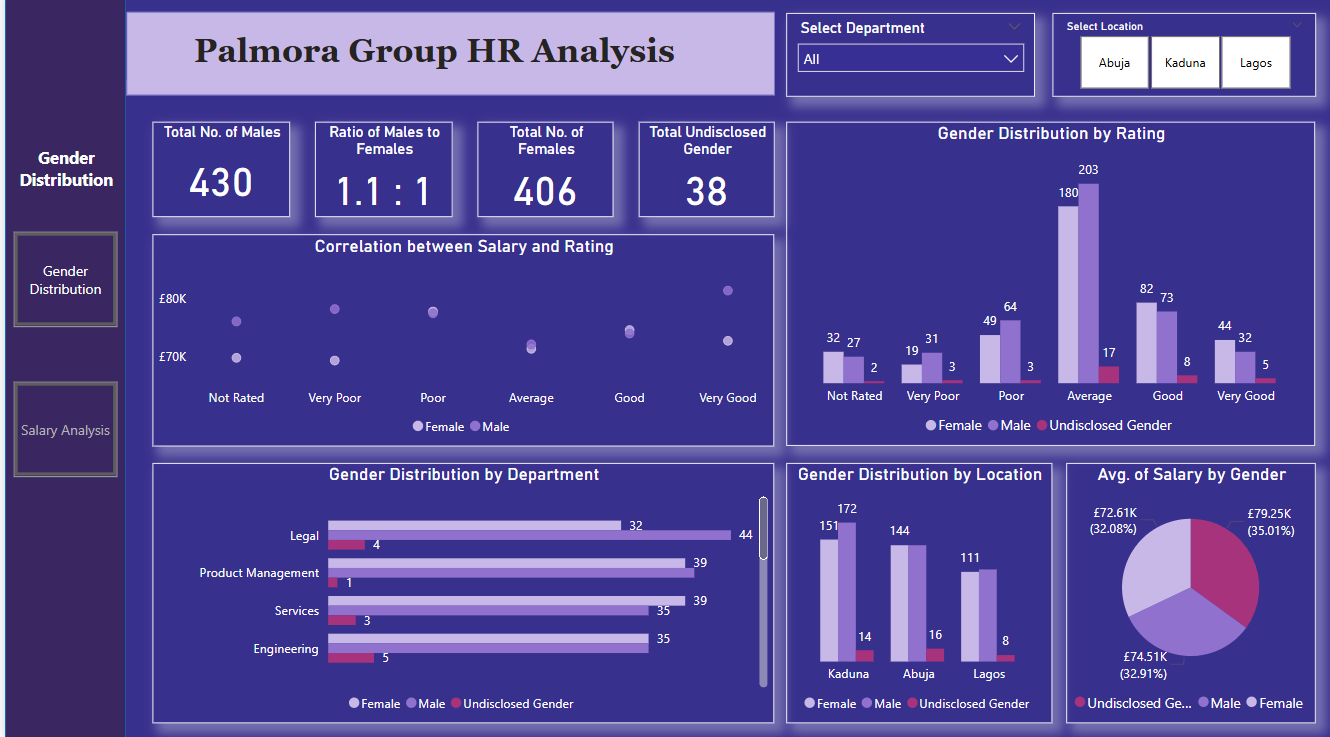

The dashboard page shown, as its layout file describes it:
{"tool":"powerbi","page":{"name":"Gender Distribution","canvas":[1280,720],"ordinal":0},"visuals":[{"type":"pieChart","title":"Avg. of Salary by Gender","fields":{"Category":["Palmoria Group emp-data.Gender"],"Y":["Palmoria Group emp-data.Salary"]},"box":[1041.2,453.6,224.4,250.9],"z":0},{"type":"slicer","fields":{"Values":["Palmoria Group emp-data.Location"]},"box":[1011.3,19.6,254.3,80.7],"z":1000},{"type":"slicer","fields":{"Values":["Departments.Department"]},"box":[754,19.3,240.1,80.8],"z":2000},{"type":"card","title":"Total No. of Males","fields":{"Values":["Palmoria Group emp-data.Total Male"]},"box":[142.8,124.1,132.7,92.3],"z":3000},{"type":"card","title":"Total No. of Females","fields":{"Values":["Palmoria Group emp-data.Total Female"]},"box":[456.3,124.1,131.3,92.3],"z":4000},{"type":"clusteredColumnChart","title":"Gender Distribution by Location","fields":{"Y":["Palmoria Group emp-data.Name"],"Category":["Palmoria Group emp-data.Location"],"Series":["Palmoria Group emp-data.Gender"]},"box":[754,453.6,270.2,250.9],"z":5000},{"type":"clusteredBarChart","title":"Gender Distribution by Department","fields":{"Category":["Departments.Department"],"Y":["Palmoria Group emp-data.Name"],"Series":["Palmoria Group emp-data.Gender"]},"box":[142.8,453,600.2,251],"z":6000},{"type":"clusteredColumnChart","title":"Gender Distribution by Rating","fields":{"Category":["Palmoria Group emp-data.Rating"],"Y":["Palmoria Group emp-data.Name"],"Series":["Palmoria Group emp-data.Gender"]},"box":[754.6,124.1,510.7,313.1],"z":7000},{"type":"card","title":"Total Undisclosed Gender","fields":{"Values":["Palmoria Group emp-data.Total Undisclosed Gender"]},"box":[611.7,124.1,131.3,92.3],"z":9000},{"type":"shape","box":[0,0,117,720.2],"z":12002},{"type":"shape","box":[117,18.1,626.1,80.8],"z":12003},{"type":"textbox","box":[177.3,32.6,483.8,54.3],"z":12004},{"type":"actionButton","box":[8.4,375.4,100.1,91.7],"z":12005},{"type":"actionButton","box":[8.4,230.6,100.1,91.7],"z":12006},{"type":"textbox","box":[6,142.4,106.2,88.1],"z":12007},{"type":"card","title":"Ratio of Males to Females","fields":{"Values":["Palmoria Group emp-data.Male-Female Ratio"]},"box":[299.5,124.1,132.7,92.3],"z":12008},{"type":"scatterChart","title":"Correlation between Salary and Rating","fields":{"Y":["Palmoria Group emp-data.Salary"],"Series":["Palmoria Group emp-data.Gender"],"X":["Palmoria Group emp-data.Rating"]},"box":[142.8,232.3,600.2,204.9],"z":12010}]}

Visuals, with their boxes in screenshot pixels (x1, y1, x2, y2), scaled from the page's 1280x720 canvas onto the 1330x737 screenshot:
"Avg. of Salary by Gender" pieChart: detection(1082, 464, 1315, 721)
slicer - Palmoria Group emp-data.Location: detection(1051, 20, 1315, 103)
slicer - Departments.Department: detection(783, 20, 1033, 102)
"Total No. of Males" card: detection(148, 127, 286, 222)
"Total No. of Females" card: detection(474, 127, 611, 222)
"Gender Distribution by Location" clusteredColumnChart: detection(783, 464, 1064, 721)
"Gender Distribution by Department" clusteredBarChart: detection(148, 464, 772, 721)
"Gender Distribution by Rating" clusteredColumnChart: detection(784, 127, 1315, 448)
"Total Undisclosed Gender" card: detection(636, 127, 772, 222)
shape: detection(0, 0, 122, 736)
shape: detection(122, 19, 772, 101)
textbox: detection(184, 33, 687, 89)
actionButton: detection(9, 384, 113, 478)
actionButton: detection(9, 236, 113, 330)
textbox: detection(6, 146, 117, 236)
"Ratio of Males to Females" card: detection(311, 127, 449, 222)
"Correlation between Salary and Rating" scatterChart: detection(148, 238, 772, 448)
